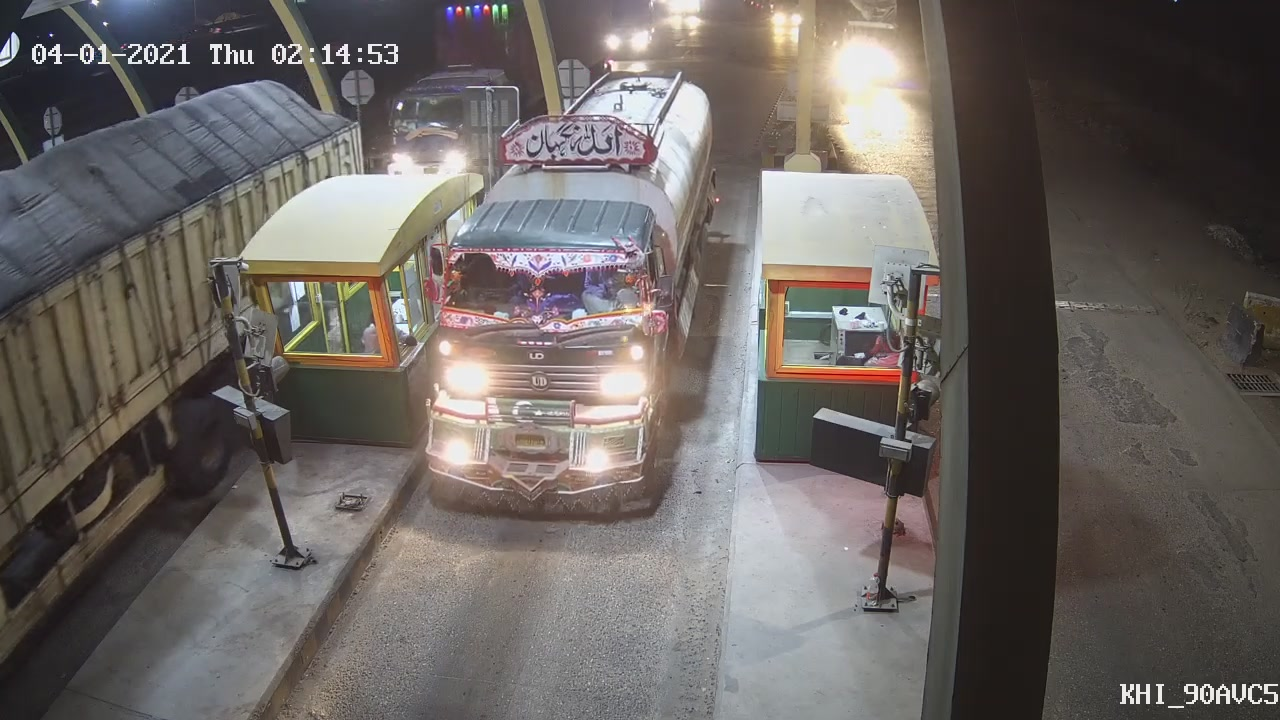F5: (402, 74, 715, 518)
